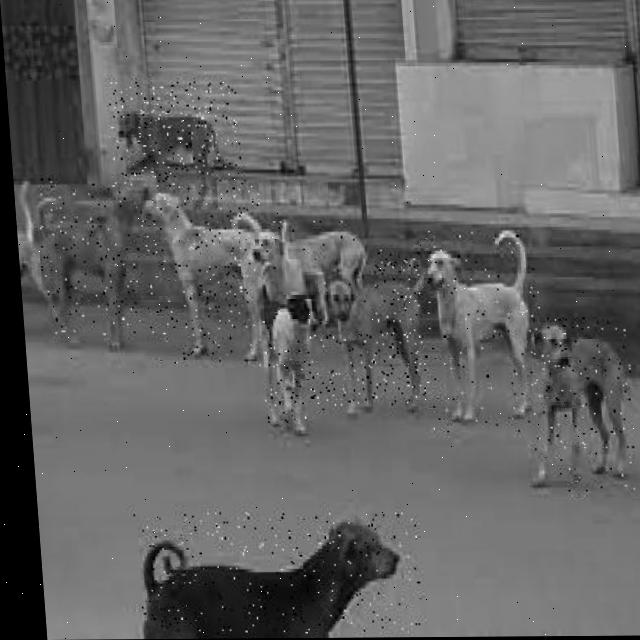Dog: (132, 511, 425, 636), (417, 224, 554, 434), (147, 177, 276, 365), (525, 314, 640, 493), (35, 177, 157, 337), (316, 249, 438, 407), (247, 211, 379, 337), (108, 81, 245, 199), (254, 288, 333, 427)
